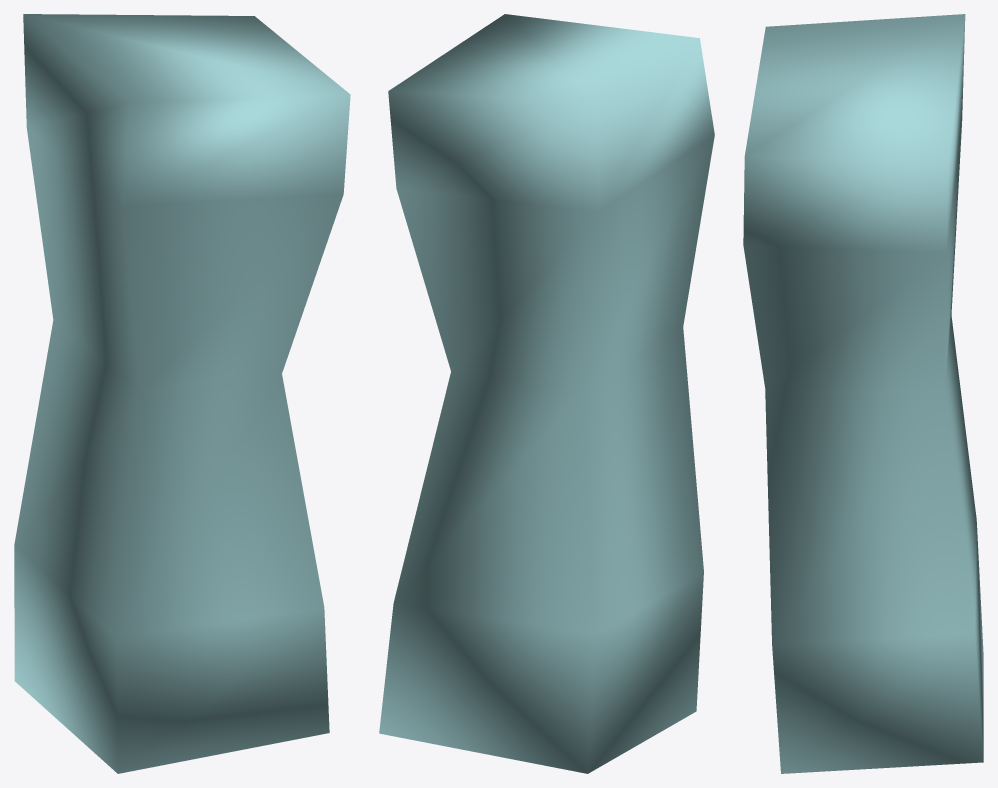
Rendered from Skelly_f_index.02.L.fbx.
3 renders of one model, left to right at view 1: azimuth 30°, elevation 25°; view 2: azimuth 150°, elevation 25°; view 3: azimuth 270°, elevation 25°, orthographic. The views are drawn at different scales.
Parts seen in each view (by area): view 1: Skelly_f_index.02.L; view 2: Skelly_f_index.02.L; view 3: Skelly_f_index.02.L.
Boxes of the visible parts, x1=… form: Skelly_f_index.02.L: x1=14, y1=14, x2=350, y2=773; Skelly_f_index.02.L: x1=379, y1=14, x2=714, y2=773; Skelly_f_index.02.L: x1=743, y1=14, x2=983, y2=773.
Bounding box in the file's own units: 1.23 × 3.54 × 1.16.
